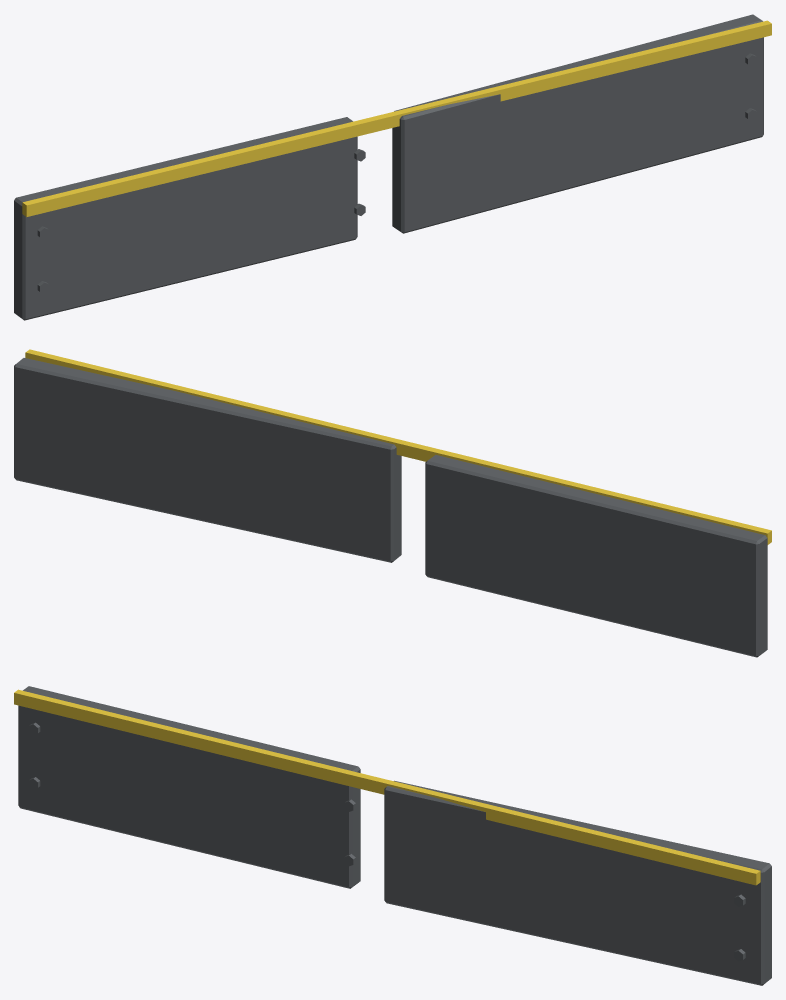
The model's file is kick_plate.glb.
The picture shows the model from 3 angles, top to bottom: view 1: azimuth 30°, elevation 25°; view 2: azimuth 150°, elevation 25°; view 3: azimuth 330°, elevation 25°; orthographic projection.
Parts seen in each view (by area): view 1: kick_plate; view 2: kick_plate; view 3: kick_plate.
Boxes of the visible parts, x1,y1,x2,y2 form: kick_plate: (14,14,771,320); kick_plate: (14,349,771,657); kick_plate: (14,686,771,985).
Bounding box in the file's own units: 2 × 0.305 × 0.093.
